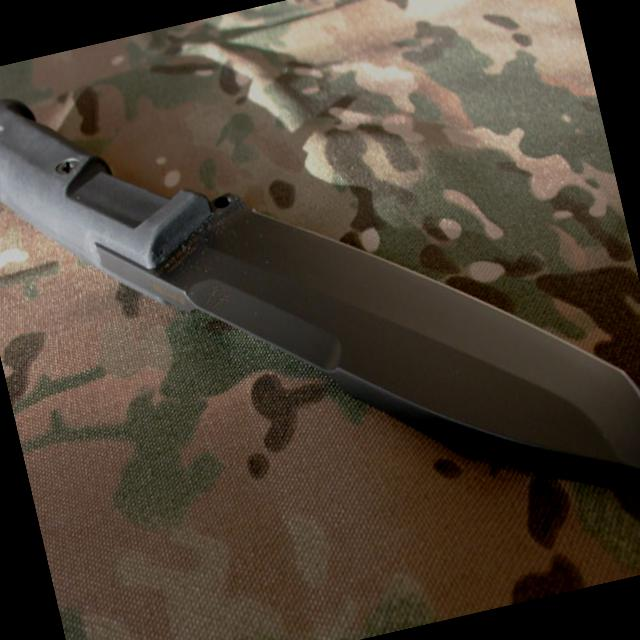knife: (107, 86, 639, 619)
